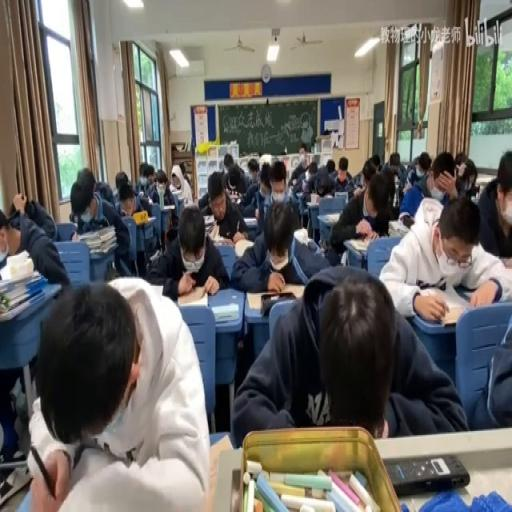calculator: (386, 452, 470, 494), (206, 431, 234, 508), (245, 283, 305, 310), (454, 274, 505, 304), (177, 287, 208, 306), (210, 302, 238, 322), (232, 236, 254, 256), (474, 175, 494, 196), (89, 244, 117, 258), (89, 225, 115, 240), (388, 218, 410, 234), (346, 238, 371, 252), (145, 279, 164, 296), (135, 213, 158, 226), (212, 233, 234, 246), (202, 214, 214, 234), (323, 212, 341, 225), (179, 194, 192, 208), (170, 188, 185, 200), (0, 248, 7, 270), (149, 246, 159, 260), (334, 189, 348, 199), (243, 214, 256, 224), (142, 196, 152, 206), (306, 198, 322, 204), (160, 204, 174, 210), (295, 191, 305, 199)
paper: (27, 273, 209, 509), (233, 263, 462, 447), (378, 193, 510, 320), (230, 198, 324, 292), (150, 205, 228, 300), (72, 165, 134, 276), (0, 196, 69, 292), (464, 292, 510, 430), (328, 168, 395, 260), (398, 148, 444, 219), (150, 168, 182, 227), (238, 159, 265, 216), (196, 164, 222, 214), (267, 158, 289, 205), (381, 149, 405, 189), (331, 156, 354, 195), (134, 161, 154, 196), (288, 155, 307, 189), (93, 176, 113, 206), (314, 168, 334, 196), (118, 186, 136, 215), (9, 196, 28, 222), (178, 160, 192, 188), (454, 149, 467, 175), (418, 150, 431, 174), (259, 192, 272, 215), (258, 154, 272, 172), (115, 171, 128, 189), (371, 154, 382, 172), (353, 171, 363, 189), (222, 152, 233, 168), (154, 175, 166, 189), (307, 162, 317, 176), (248, 169, 258, 181), (325, 158, 334, 171), (298, 144, 306, 155)
